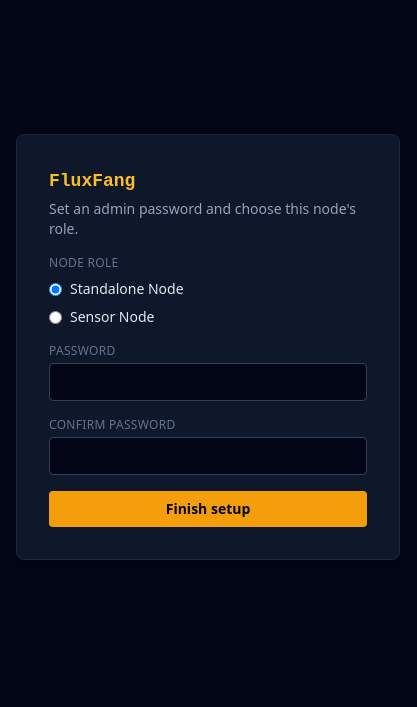
rejects a sensor id containing a space
Click the radio button labelled "Sensor Node" at x=56, y=317, box [49,310,62,324]
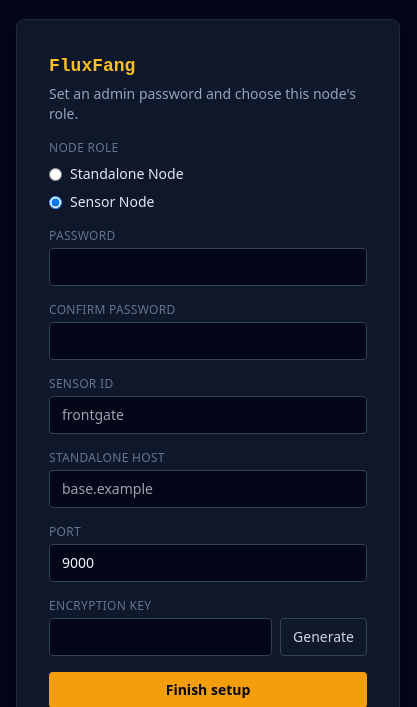
Type "pw123456" into the password field labelled "Password" at x=208, y=267, box [49,248,367,286]
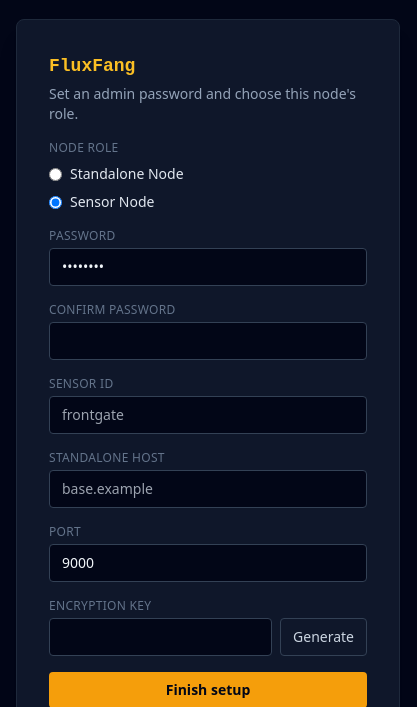
Type "pw123456" into the password field labelled "Confirm password" at x=208, y=341, box [49,322,367,360]
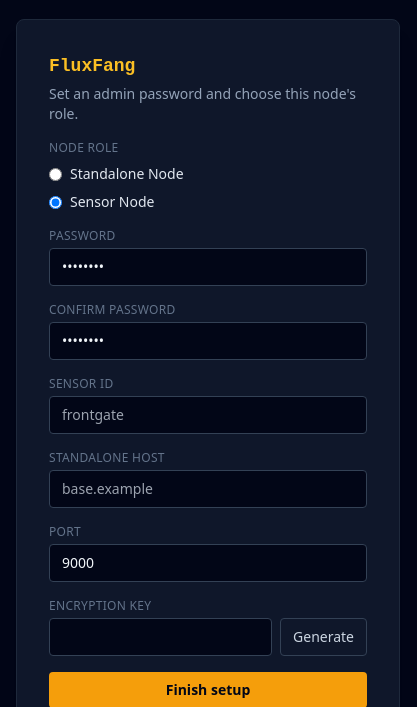
Type "front gate" into the field labelled "Sensor id" at x=208, y=415, box [49,396,367,434]
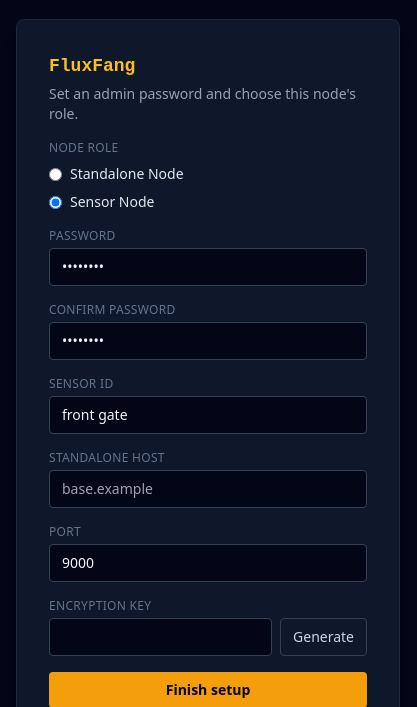
Click the button "Finish setup" at x=208, y=690, box [49,672,367,706]
(page scrolled)
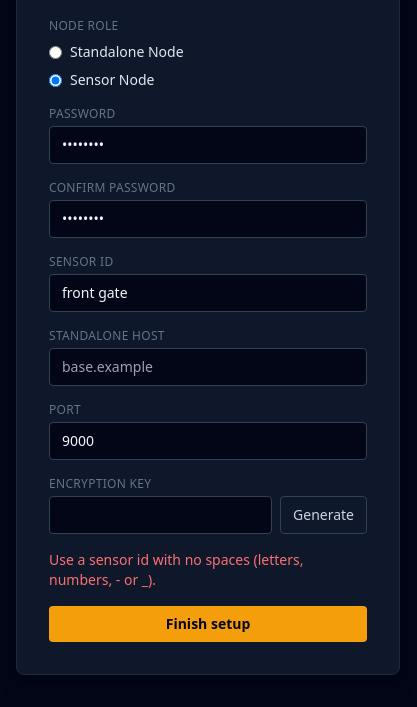
Check: the message shows "id", box [49,550,304,589]
